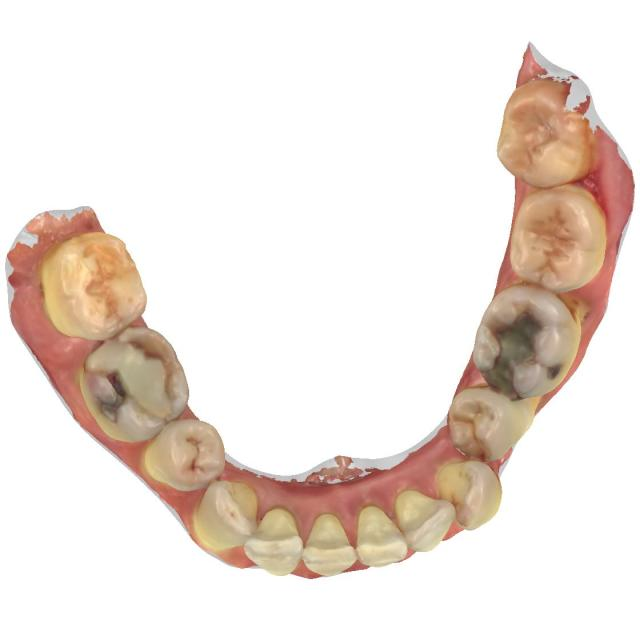tooth: (470, 273, 603, 408), (79, 319, 197, 457), (483, 65, 605, 191), (40, 218, 155, 347), (500, 171, 616, 297), (444, 369, 546, 482), (184, 459, 269, 567), (139, 410, 232, 502), (432, 453, 508, 542), (296, 502, 375, 583), (382, 482, 461, 562), (239, 497, 308, 583), (348, 489, 413, 576)
